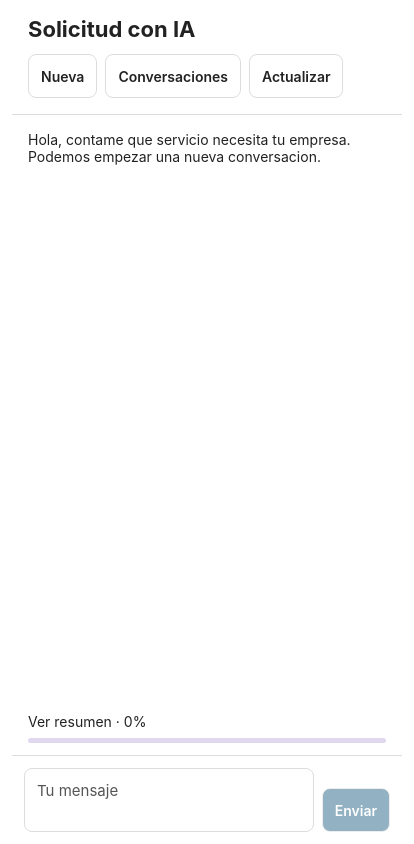
Test: recupera una conversacion del historial sin crear otra
Click the button labelled "Conversaciones".
click(173, 76)  # box [105,54,241,98]
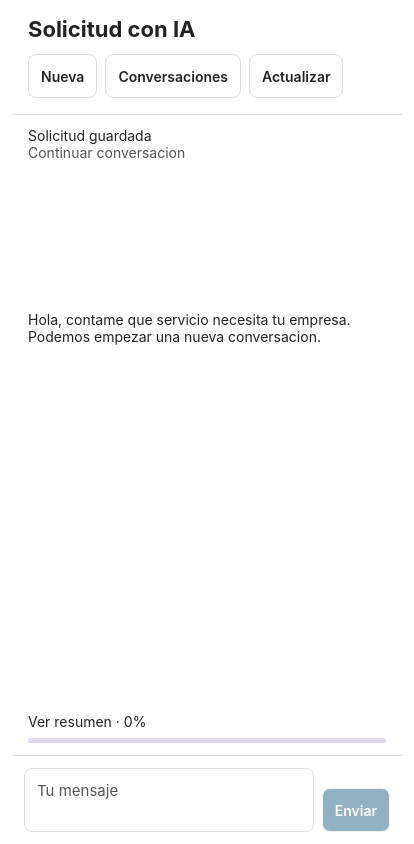
Click the text "Solicitud guardada".
click(90, 136)  # box [28,127,152,144]
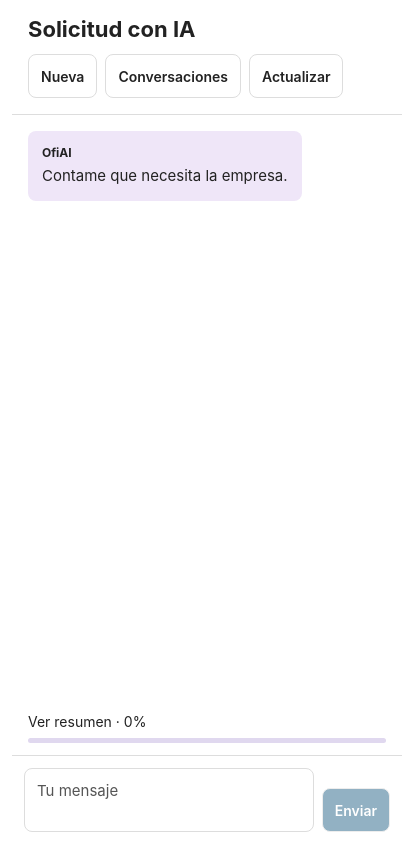
Expected: the text "Contame que necesita la empresa." is shown, [42,165,288,187]
